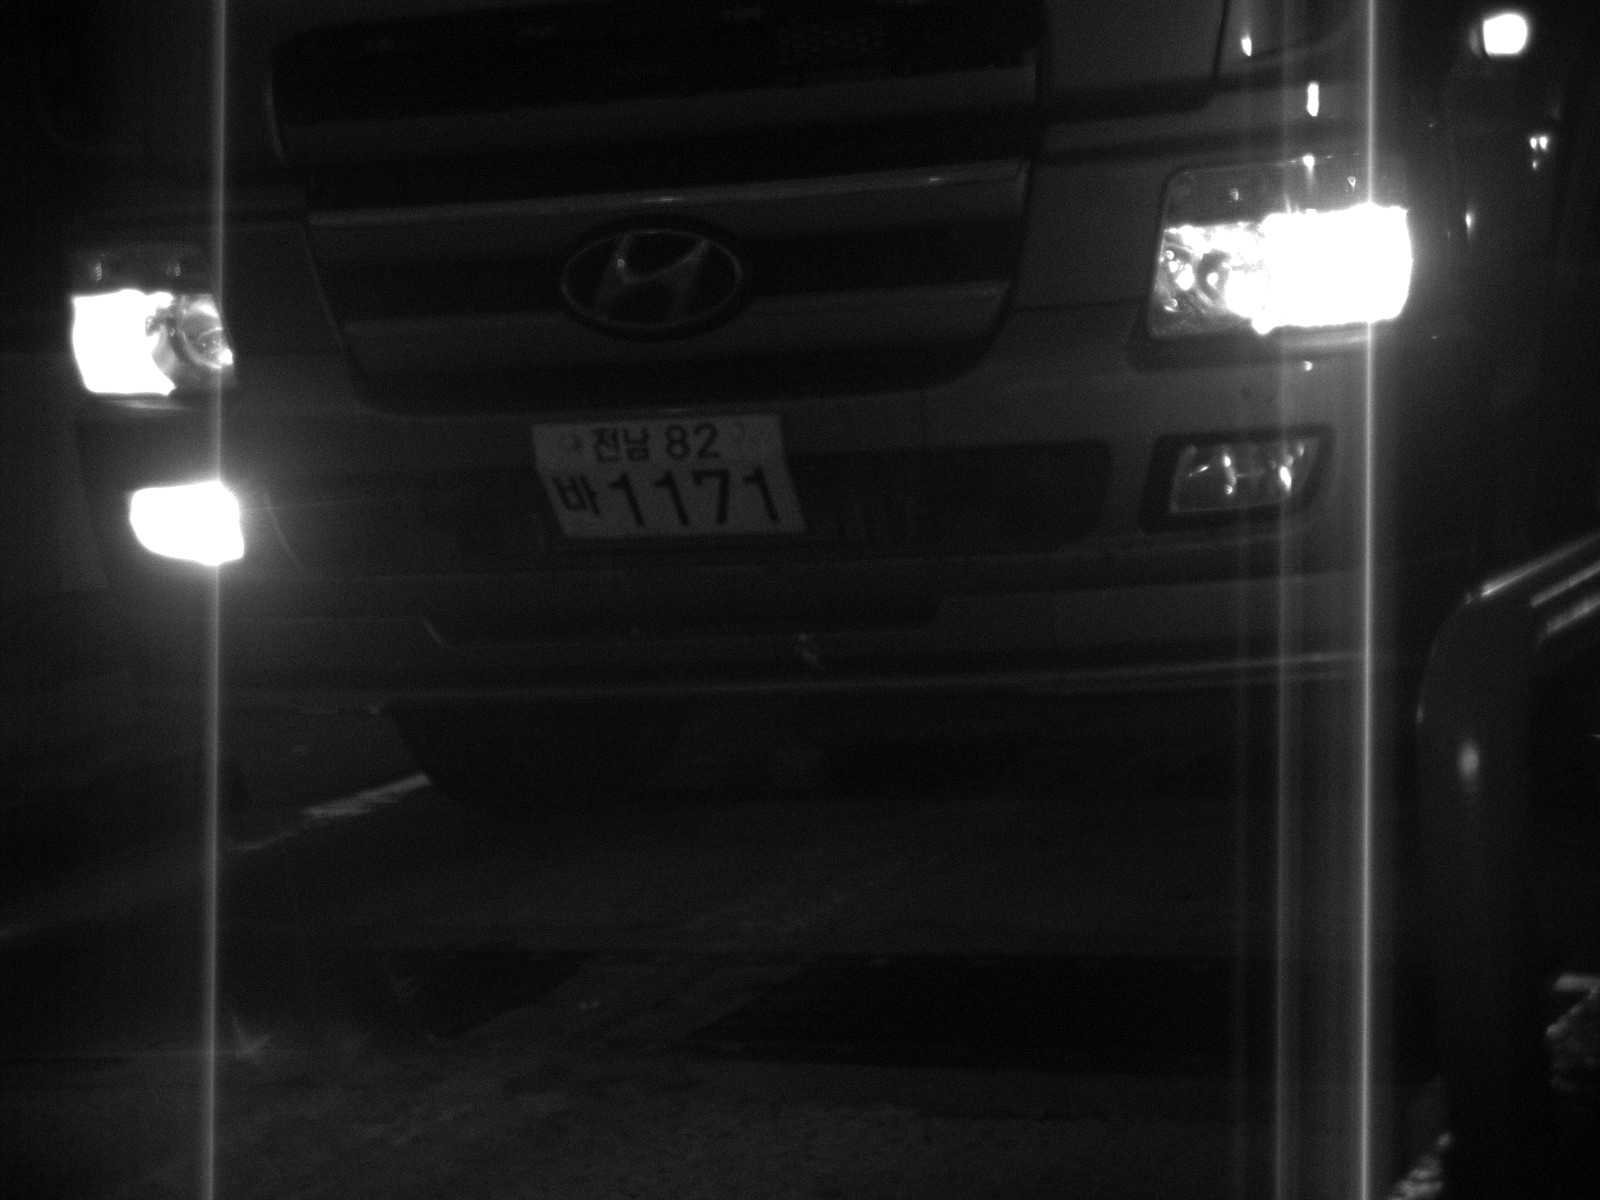car: (34, 1, 1599, 813)
plate: (522, 408, 821, 549)
